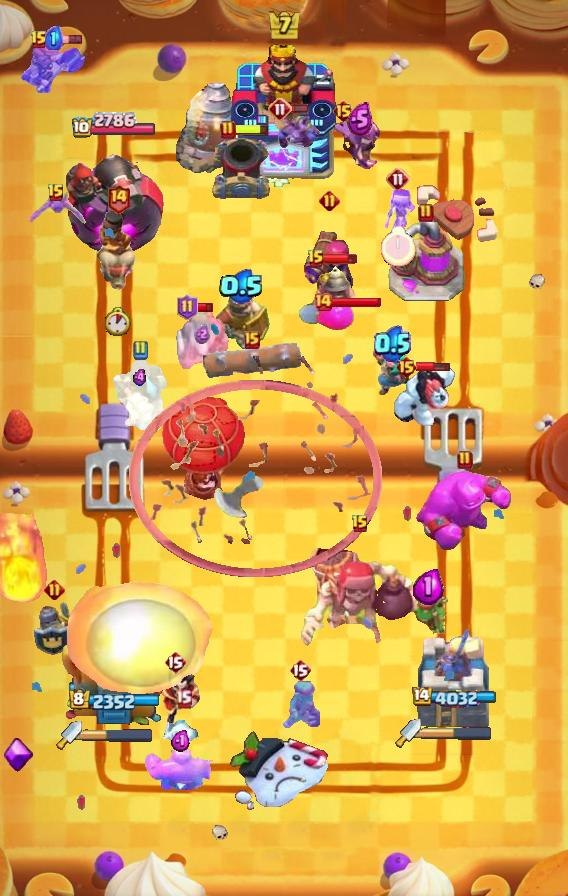axe: (214, 472, 270, 528)
bar: (330, 296, 382, 308), (234, 123, 270, 136), (322, 253, 358, 265), (416, 361, 451, 373), (46, 34, 83, 45), (195, 302, 214, 313), (290, 103, 309, 114)
bar-level: (106, 183, 131, 214), (386, 167, 410, 191), (268, 97, 292, 121), (395, 355, 418, 379), (332, 99, 355, 123), (177, 294, 198, 320), (289, 658, 311, 682), (164, 650, 186, 674), (44, 579, 65, 600), (319, 190, 340, 211), (313, 292, 333, 312), (351, 514, 369, 534), (307, 249, 325, 269), (47, 183, 65, 203), (30, 30, 48, 50), (175, 689, 192, 708), (457, 450, 473, 470), (132, 340, 148, 360), (418, 203, 434, 223), (220, 120, 236, 140), (244, 331, 260, 349)
bat-evolution: (26, 191, 86, 229)
cannoneer-tower: (64, 138, 164, 256)
clock: (381, 226, 416, 267), (105, 307, 131, 336)
dagger-duchess-tower: (62, 601, 166, 731), (414, 623, 492, 731)
dagger-duchess-tower-bar: (82, 728, 154, 742), (421, 726, 493, 740)
electro-wizard: (147, 668, 203, 726)
elixir: (219, 269, 264, 304), (374, 325, 411, 362), (413, 567, 444, 605), (347, 102, 373, 136), (171, 730, 191, 752), (45, 26, 63, 50), (194, 324, 210, 344), (132, 369, 148, 386)
elixir-golem-mid: (144, 746, 218, 798)
elixir-golem-small: (314, 303, 354, 331)
evolution-symbol: (2, 736, 35, 774)
firecracker-evolution: (302, 214, 356, 302)
guard: (33, 593, 75, 657)
ice-spirit: (160, 713, 206, 757)
king-tower: (230, 41, 338, 181)
miner: (297, 259, 359, 327)
minion: (271, 109, 321, 151)
mortar: (210, 135, 272, 203)
mother-witch: (333, 110, 388, 173)
ram-rider: (96, 210, 140, 292)
rascal-girl: (371, 346, 413, 398)
royal-ghost: (173, 306, 231, 374)
royal-recruit: (212, 278, 270, 350)
skeleton-evolution: (380, 188, 416, 228)
spear-goblin: (280, 680, 320, 730), (408, 593, 448, 639)
the-log: (203, 343, 301, 379)
tower-bar: (71, 112, 157, 140), (68, 689, 161, 713), (410, 687, 496, 709)
valkyrie-evolution: (20, 39, 88, 99)
